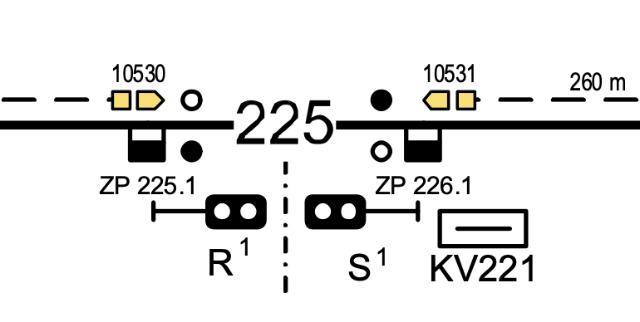radzaehler: (399, 120, 447, 172), (124, 123, 170, 166)
tracknumber: (228, 88, 344, 156)
